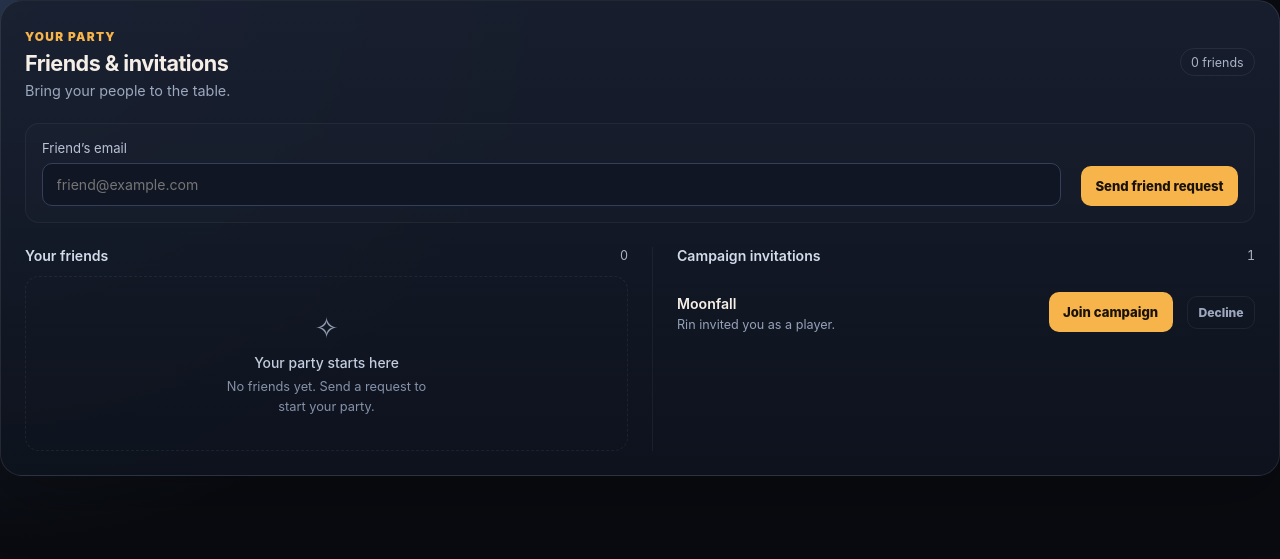
it: does not report a join when accepting an invitation fails
Step 1. Click the button "Join campaign" → (1111, 312), box top-left (1049, 292), bottom-right (1173, 332)
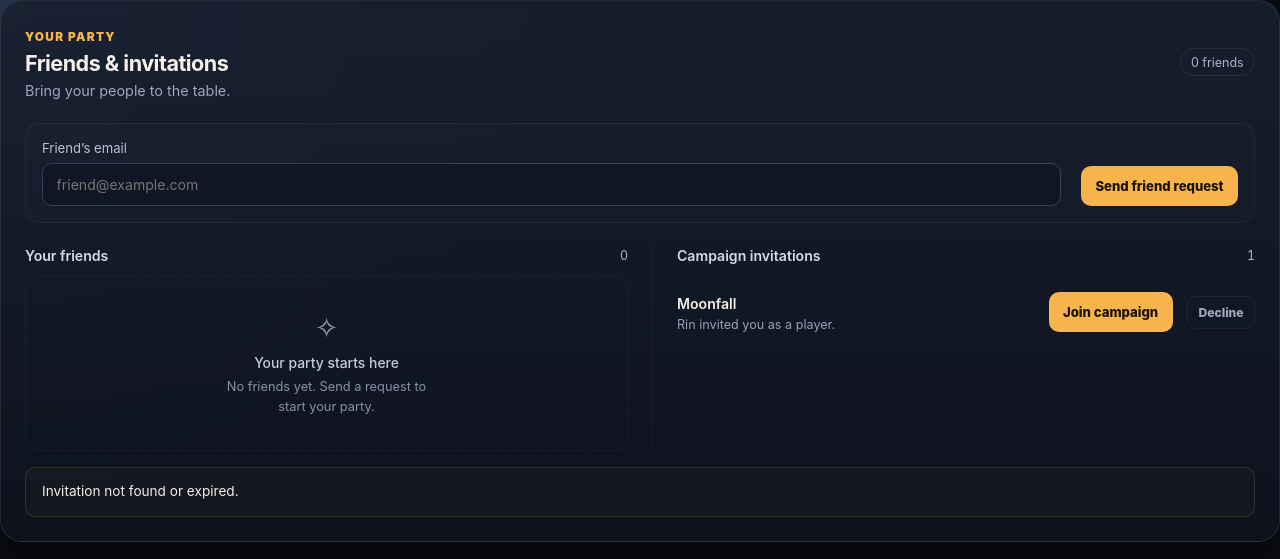
Expected: the text "Invitation not found or expired." is shown, top-left (25, 467), bottom-right (1255, 517)
